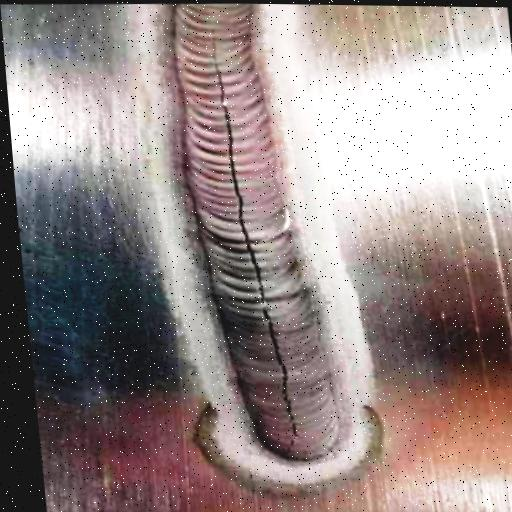crack: (199, 47, 307, 446)
